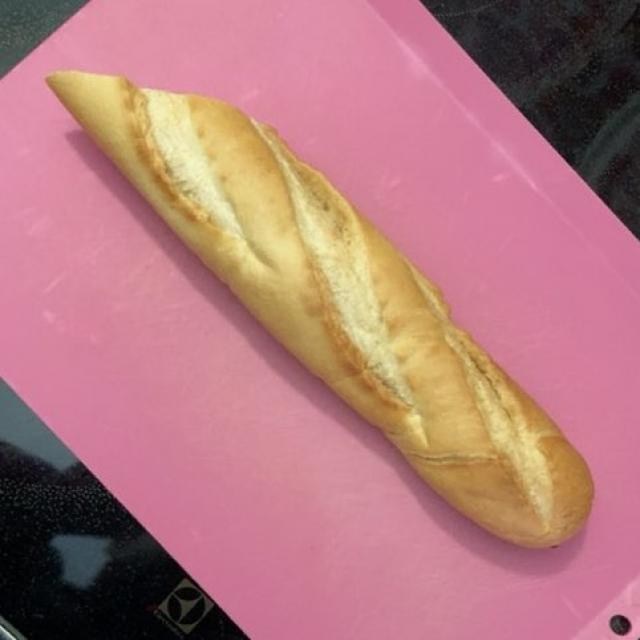bread: (59, 74, 586, 540)
